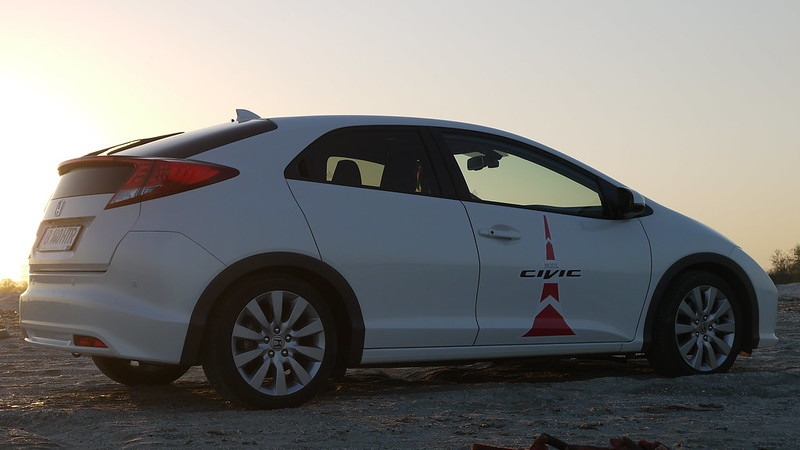car: (14, 101, 789, 410)
